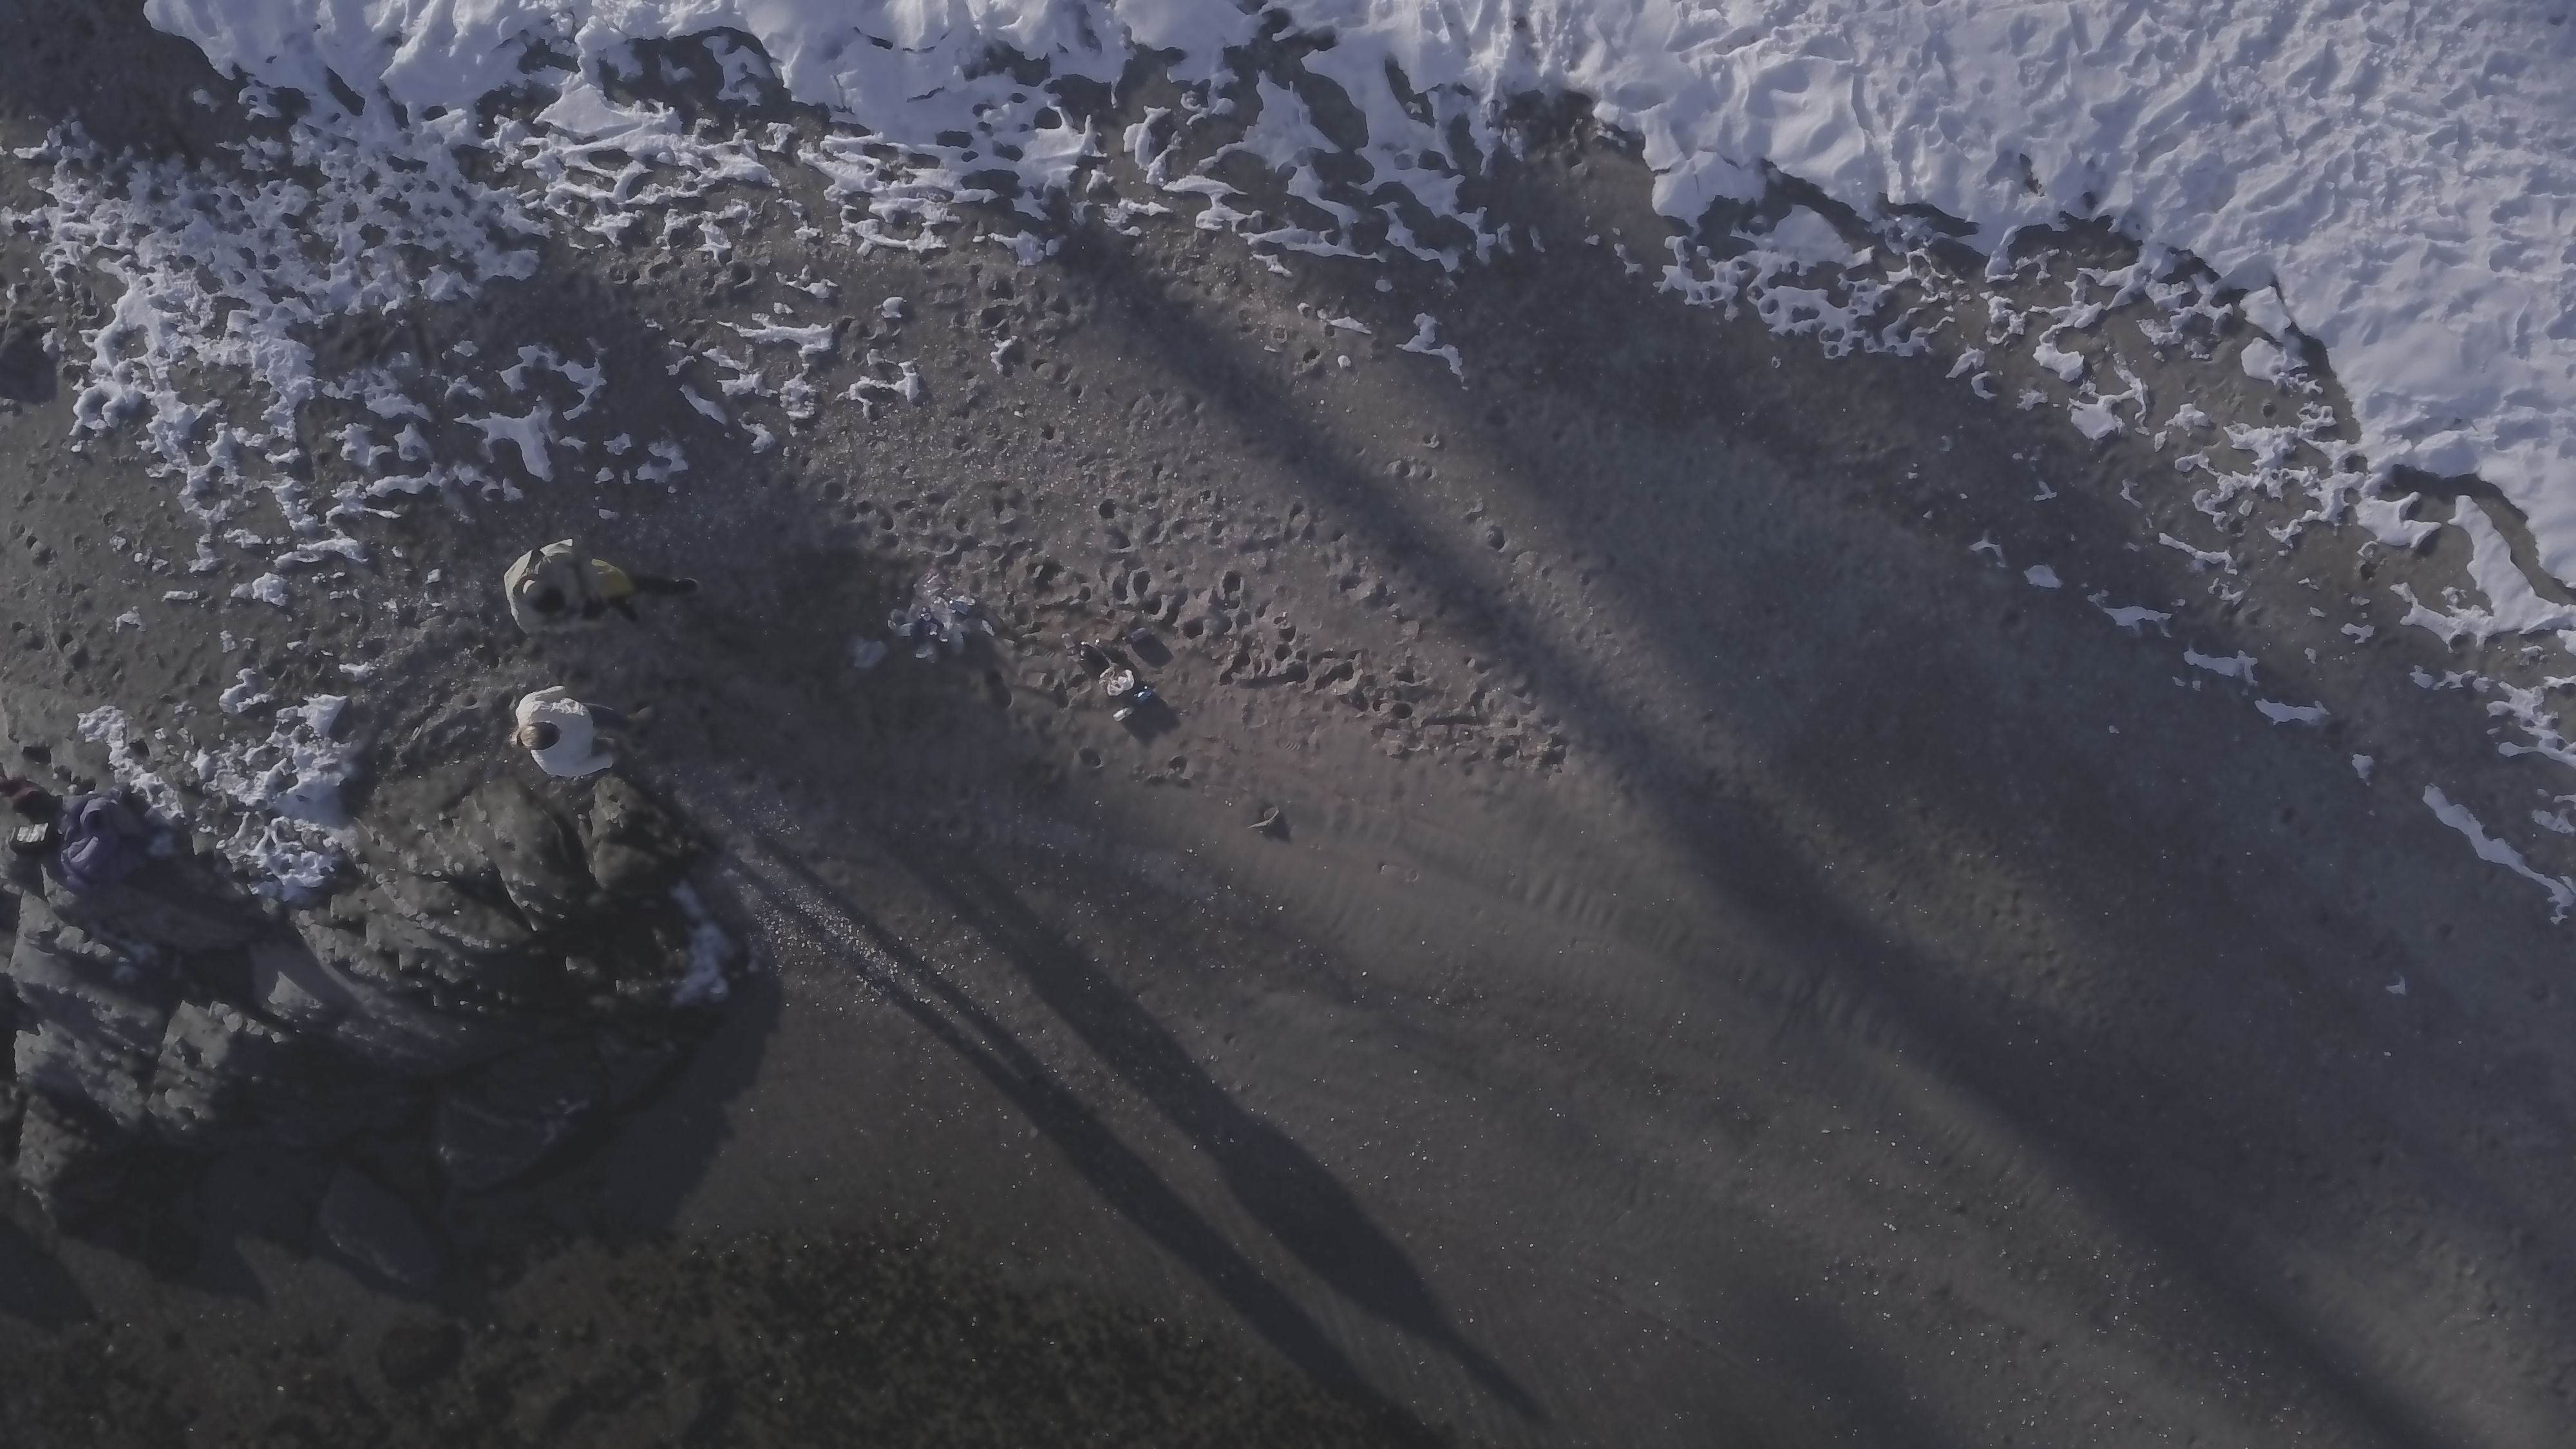Can: (1138, 686, 1154, 702), (920, 610, 932, 623)
Other: (1081, 640, 1102, 651)
Plastic: (913, 594, 957, 628), (1102, 663, 1134, 699), (925, 623, 966, 646), (916, 571, 948, 600), (890, 609, 918, 639), (948, 594, 977, 617), (982, 621, 994, 639)
PlasticBottle: (1120, 625, 1155, 644), (1062, 632, 1079, 660), (1115, 706, 1134, 722)
